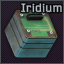Iridium military thermal vision module: (0, 0, 64, 64)
